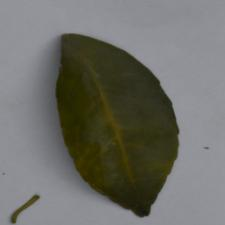Greening: (43, 34, 165, 186)
